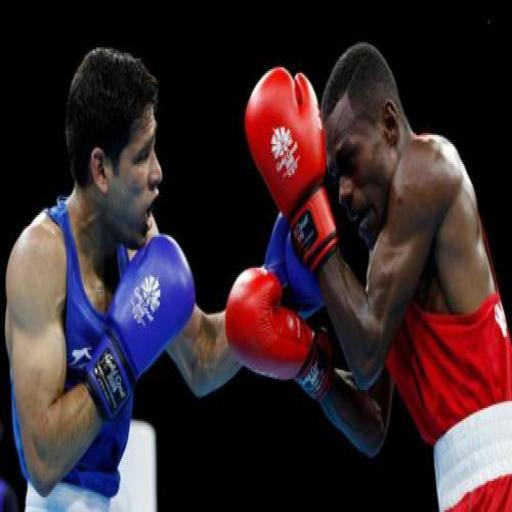boxing: (0, 49, 348, 510), (227, 40, 511, 510)
